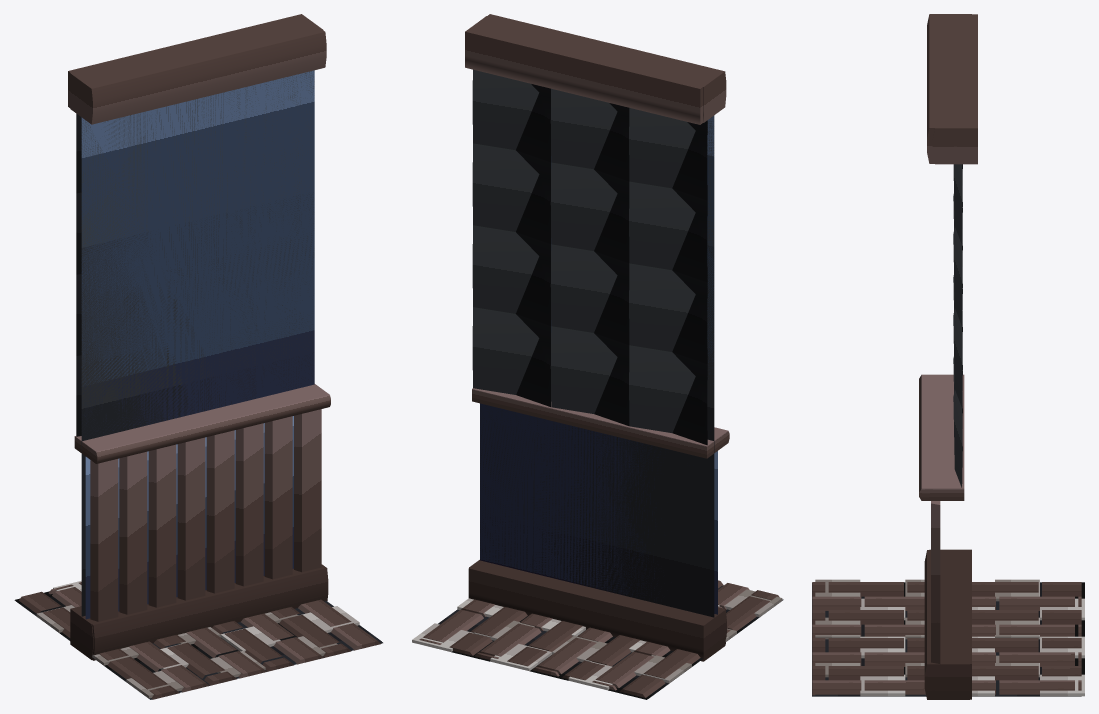
File: wall.fbx
The picture shows the model from 3 angles, left to right: view 1: azimuth 30°, elevation 25°; view 2: azimuth 150°, elevation 25°; view 3: azimuth 270°, elevation 25°; orthographic projection.
Parts seen in each view (by area): view 1: wall_Blue, wall_epic, wall_black, floor_desk, floor_Tiles; view 2: wall_epic, wall_Blue, wall_black, floor_desk, floor_Tiles; view 3: floor_desk, wall_epic, floor_Tiles, wall_Blue.
Boxes of the visible parts, x1=… form: wall_Blue: x1=70, y1=30, x2=326, y2=659; wall_epic: x1=68, y1=14, x2=330, y2=660; wall_black: x1=81, y1=71, x2=314, y2=616; floor_desk: x1=16, y1=582, x2=382, y2=699; floor_Tiles: x1=14, y1=580, x2=381, y2=698; wall_epic: x1=465, y1=16, x2=729, y2=644; wall_Blue: x1=468, y1=14, x2=726, y2=661; wall_black: x1=480, y1=117, x2=714, y2=617; floor_desk: x1=419, y1=580, x2=783, y2=698; floor_Tiles: x1=412, y1=586, x2=782, y2=699; floor_desk: x1=812, y1=582, x2=1081, y2=696; wall_epic: x1=919, y1=14, x2=977, y2=699; floor_Tiles: x1=815, y1=579, x2=1084, y2=696; wall_Blue: x1=927, y1=14, x2=971, y2=699.
Size of the model in its own units: 513 by 1194 by 516.
